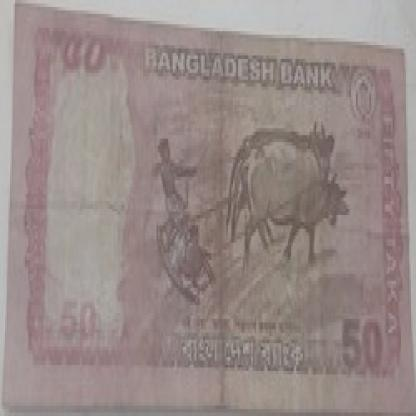Fifty taka: (55, 35, 116, 90), (338, 305, 381, 381)
